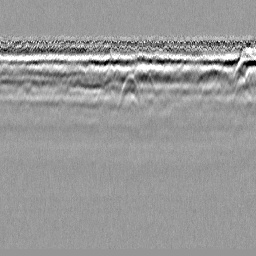cavity: (116, 72, 141, 110)
